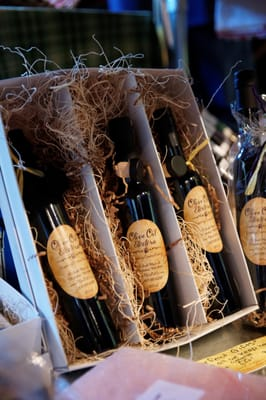burger: (46, 224, 99, 301)
